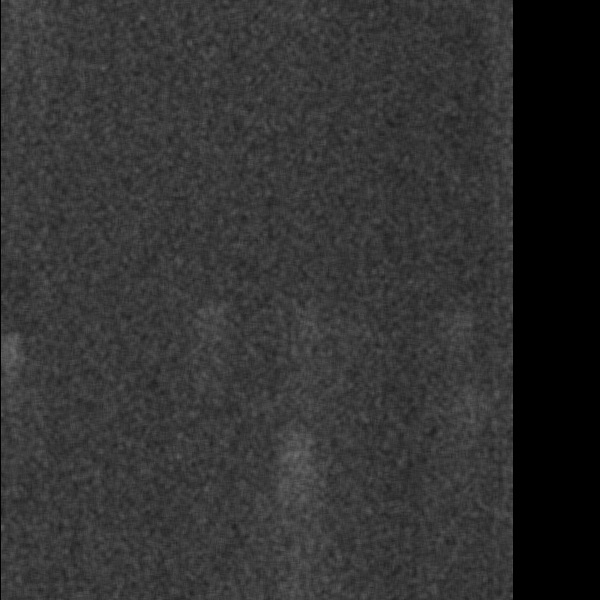spark: (260, 429, 311, 502), (1, 330, 25, 427)
